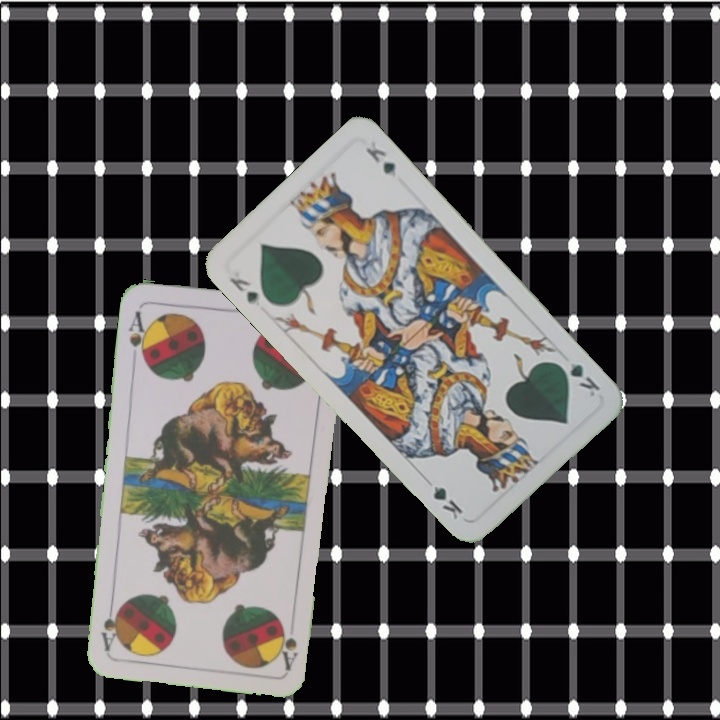GK: (552, 358, 603, 400), (225, 273, 261, 308)
SA: (125, 307, 152, 364), (274, 617, 301, 672)
